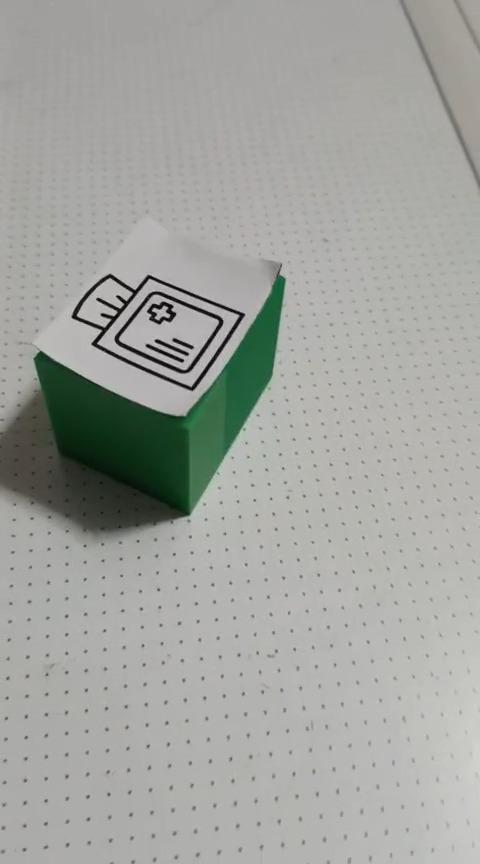Gauze: (30, 213, 285, 516)
